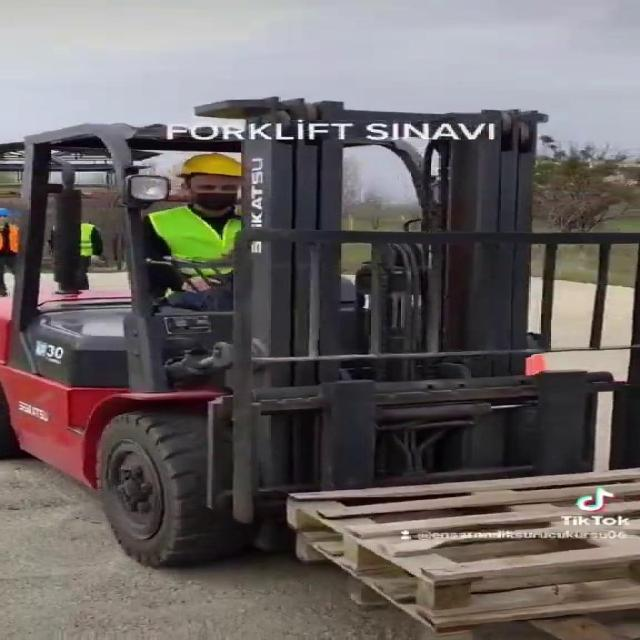forklift: (2, 118, 572, 563)
